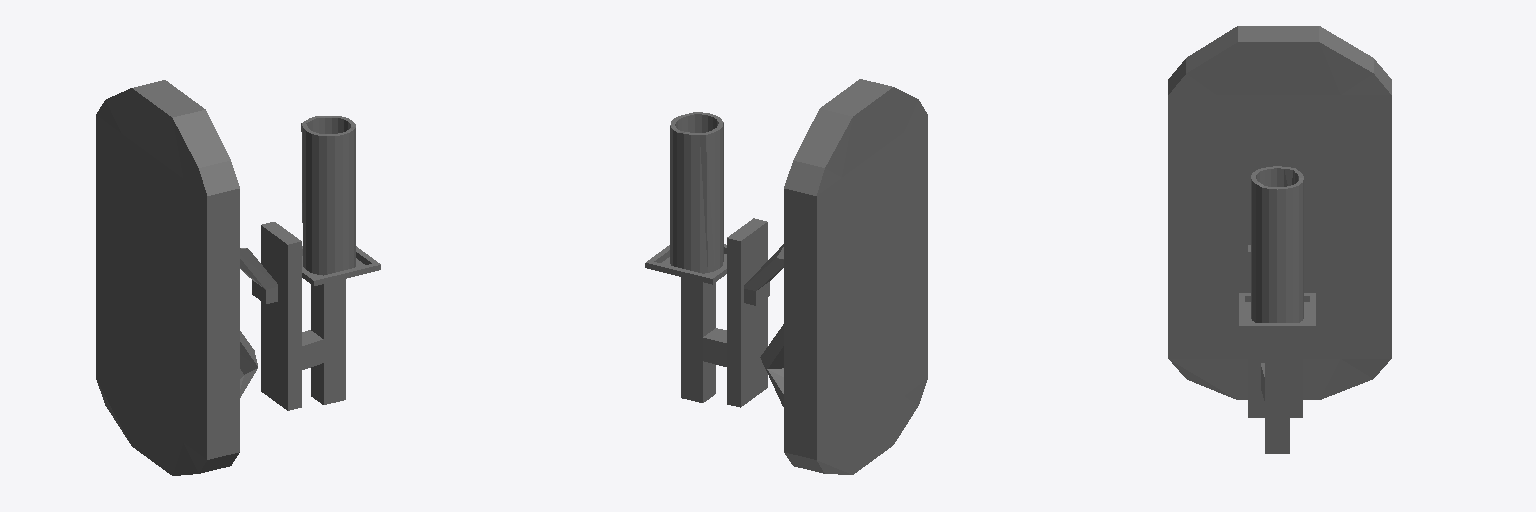
File: light.obj
3 renders of one model, left to right at view 1: azimuth 30°, elevation 25°; view 2: azimuth 150°, elevation 25°; view 3: azimuth 270°, elevation 25°, orthographic.
Parts seen in each view (by area): view 1: light_light; view 2: light_light; view 3: light_light.
Boxes of the visible parts, x1,y1,x2,y2 form: light_light: [96, 80, 380, 475]; light_light: [645, 79, 927, 474]; light_light: [1168, 26, 1391, 453].
Bounding box in the file's own units: 14.92 × 24.42 × 13.77.